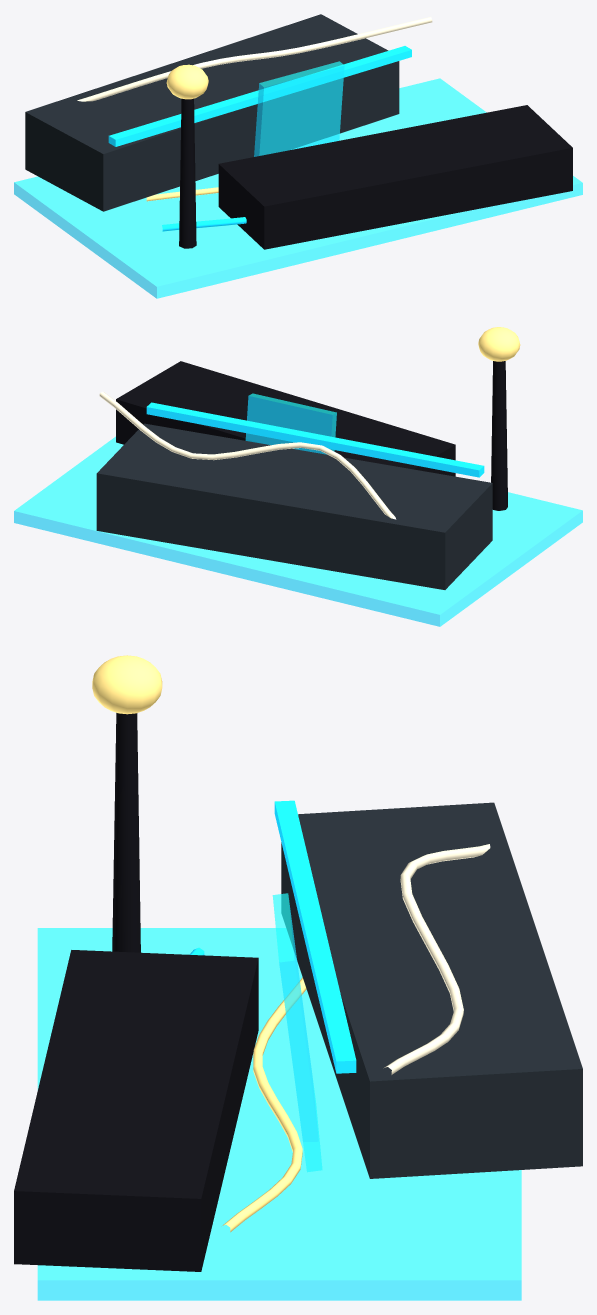
Rendered from water-relief-spillway.glb.
3 views of the same model, one above another, from view 1: azimuth 30°, elevation 25°; view 2: azimuth 150°, elevation 25°; view 3: azimuth 270°, elevation 25° (orthographic). The views are drawn at different scales.
Parts seen in each view (by area): view 1: spillway-upper-rock, spillway-lower-rock, spillway-water-tray, spillway-fall-plane, spillway-foam-lip, spillway-marker-post, spillway-contour-a, spillway-marker-light, spillway-current-a; view 2: spillway-upper-rock, spillway-water-tray, spillway-lower-rock, spillway-foam-lip, spillway-fall-plane, spillway-marker-post, spillway-contour-a, spillway-marker-light; view 3: spillway-upper-rock, spillway-water-tray, spillway-lower-rock, spillway-foam-lip, spillway-marker-post, spillway-fall-plane, spillway-contour-a, spillway-marker-light, spillway-current-b.
Part boxes in pixels (<box>): spillway-upper-rock: <box>25,14,399,211</box>; spillway-lower-rock: <box>218,105,572,249</box>; spillway-water-tray: <box>14,78,582,298</box>; spillway-fall-plane: <box>254,61,344,156</box>; spillway-foam-lip: <box>108,46,411,146</box>; spillway-marker-post: <box>179,98,196,248</box>; spillway-contour-a: <box>77,17,432,101</box>; spillway-marker-light: <box>166,64,208,99</box>; spillway-current-a: <box>162,217,246,231</box>; spillway-upper-rock: <box>96,423,492,589</box>; spillway-water-tray: <box>14,436,582,626</box>; spillway-lower-rock: <box>116,361,455,476</box>; spillway-foam-lip: <box>146,402,484,477</box>; spillway-fall-plane: <box>245,393,336,454</box>; spillway-marker-post: <box>491,361,507,510</box>; spillway-contour-a: <box>99,391,396,519</box>; spillway-marker-light: <box>478,327,520,361</box>; spillway-upper-rock: <box>281,802,582,1178</box>; spillway-water-tray: <box>37,928,521,1300</box>; spillway-lower-rock: <box>14,950,258,1271</box>; spillway-foam-lip: <box>274,800,356,1073</box>; spillway-marker-post: <box>112,713,140,952</box>; spillway-fall-plane: <box>272,893,321,1171</box>; spillway-contour-a: <box>383,844,490,1074</box>; spillway-marker-light: <box>92,655,162,714</box>; spillway-current-b: <box>222,977,306,1232</box>.
Bounding box in the file's own units: 1.86 × 0.8535 × 1.27.
